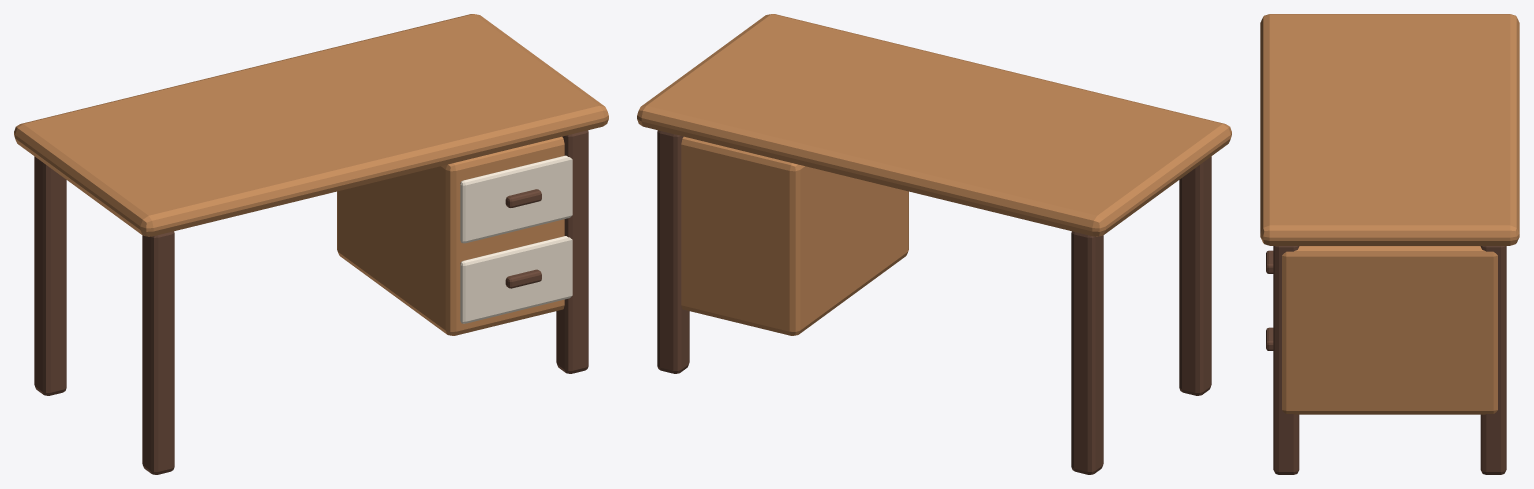
The model's file is desk.glb.
3 renders of one model, left to right at view 1: azimuth 30°, elevation 25°; view 2: azimuth 150°, elevation 25°; view 3: azimuth 270°, elevation 25°, orthographic. The views are drawn at different scales.
Visible parts, largest first — view 1: desk; view 2: desk; view 3: desk.
Part boxes in pixels (x1=…): desk: x1=14, y1=14, x2=608, y2=474; desk: x1=637, y1=14, x2=1231, y2=474; desk: x1=1260, y1=14, x2=1519, y2=474.
Size of the model in its own units: 1.4 by 0.76 by 0.7.
